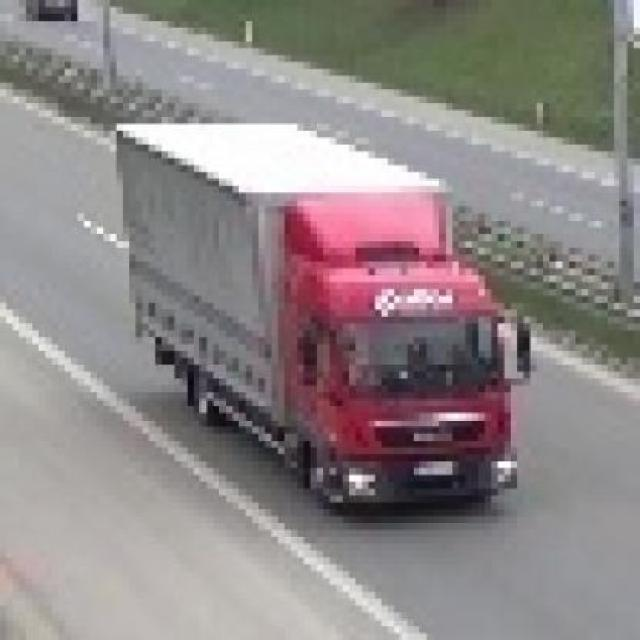truck: (124, 111, 538, 503)
